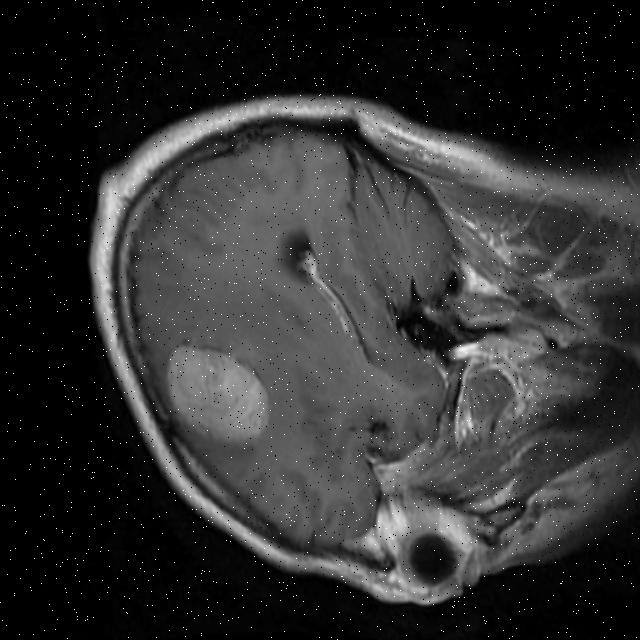Meningioma: (160, 338, 275, 448)
